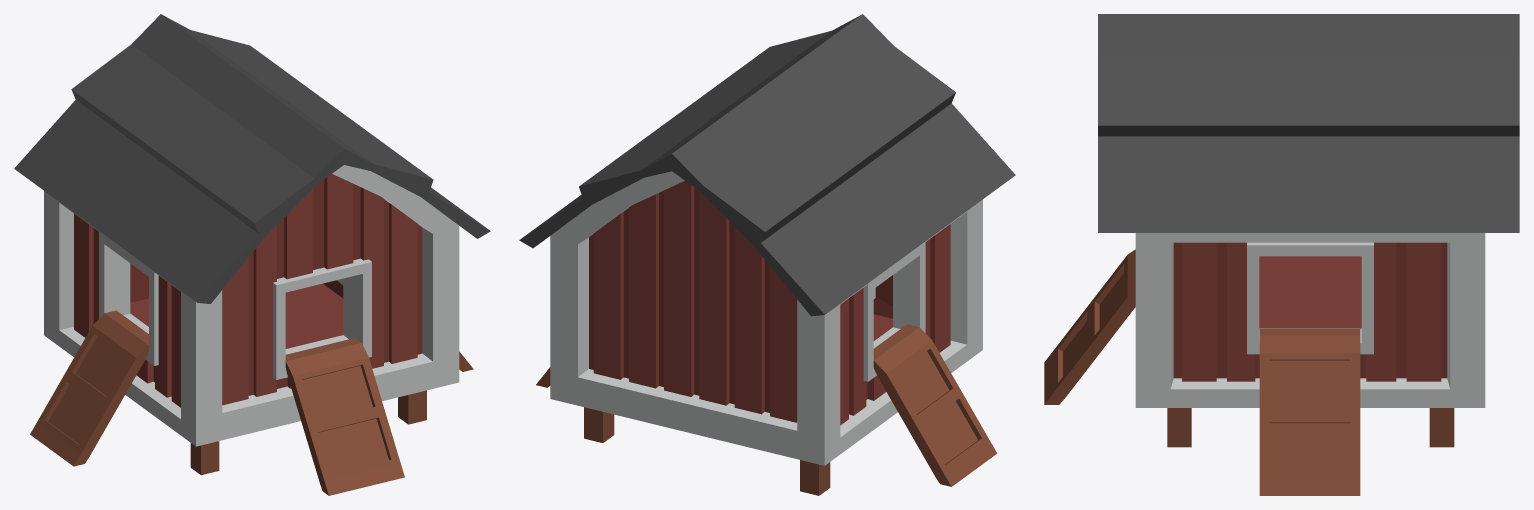
File: quaternius-farm-buildings-chickencoop.glb
3 views of the same model, side by side, from view 1: azimuth 30°, elevation 25°; view 2: azimuth 150°, elevation 25°; view 3: azimuth 270°, elevation 25° (orthographic). The views are drawn at different scales.
Parts seen in each view (by area): view 1: ChickenCoop; view 2: ChickenCoop; view 3: ChickenCoop.
Boxes of the visible parts, bbox=[...] form: ChickenCoop: bbox=[14, 14, 490, 495]; ChickenCoop: bbox=[519, 14, 1015, 495]; ChickenCoop: bbox=[1044, 14, 1519, 495].
Size of the model in its own units: 2.41 by 1.85 by 2.15.
Materials: 1 (1 with a texture image).
